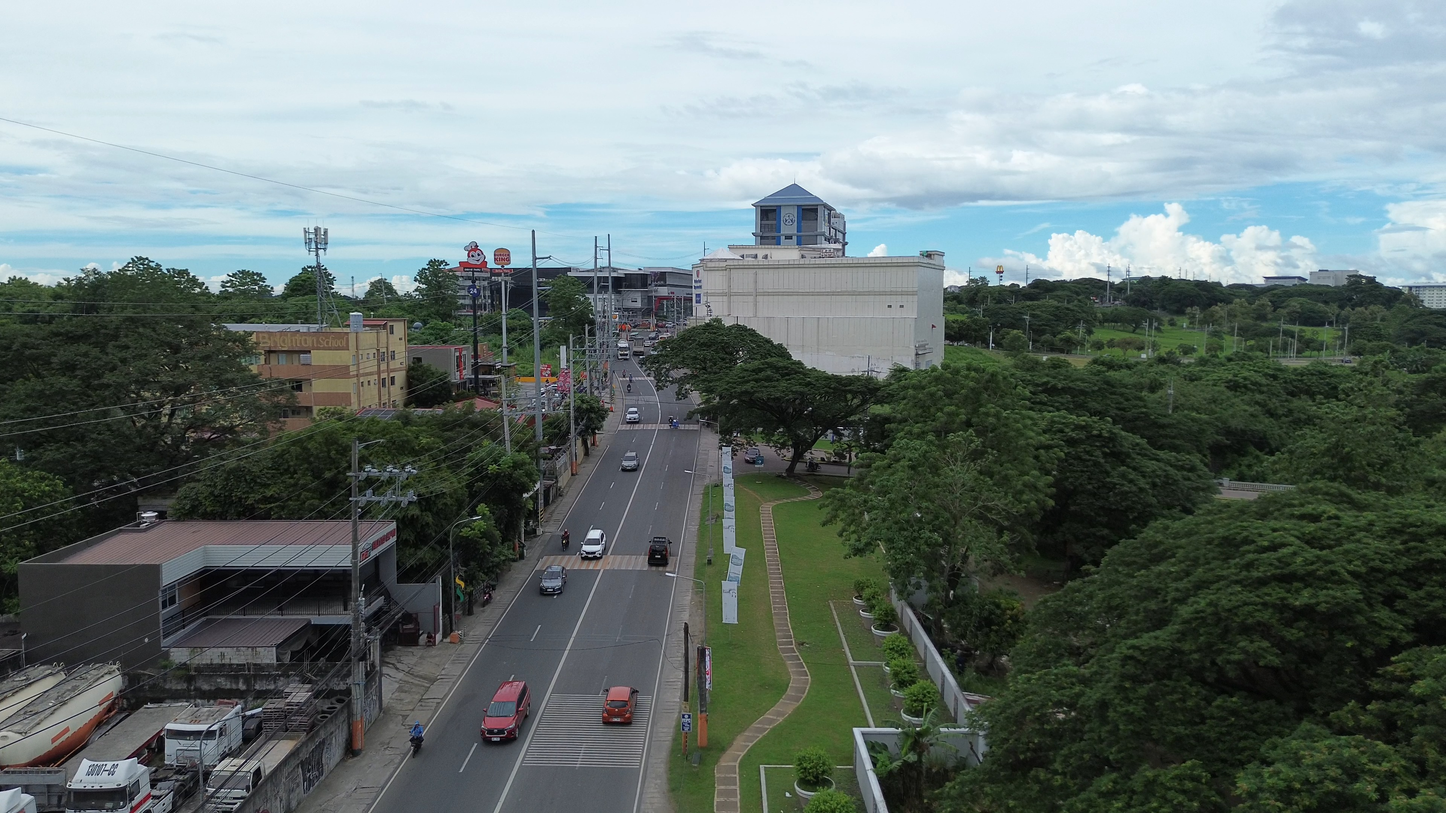car: (602, 686, 639, 724), (540, 565, 567, 594), (621, 450, 640, 471)
motorcycle: (410, 735, 424, 757), (561, 530, 570, 550)
truck: (205, 734, 301, 813)
vehicle: (0, 664, 123, 767), (67, 758, 174, 813), (166, 701, 243, 766), (481, 681, 530, 741), (0, 787, 36, 813), (580, 528, 607, 558), (647, 536, 671, 566), (744, 447, 763, 464), (625, 407, 640, 423), (561, 529, 570, 550), (618, 347, 630, 359)
